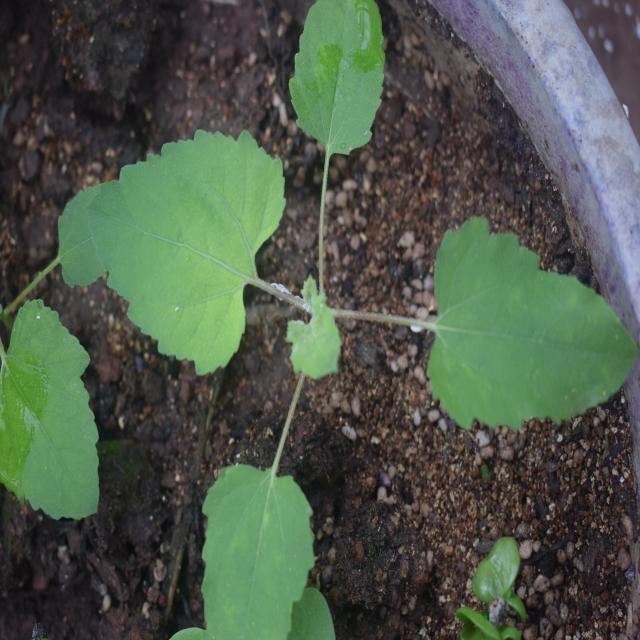cocklebur: (86, 21, 601, 588)
